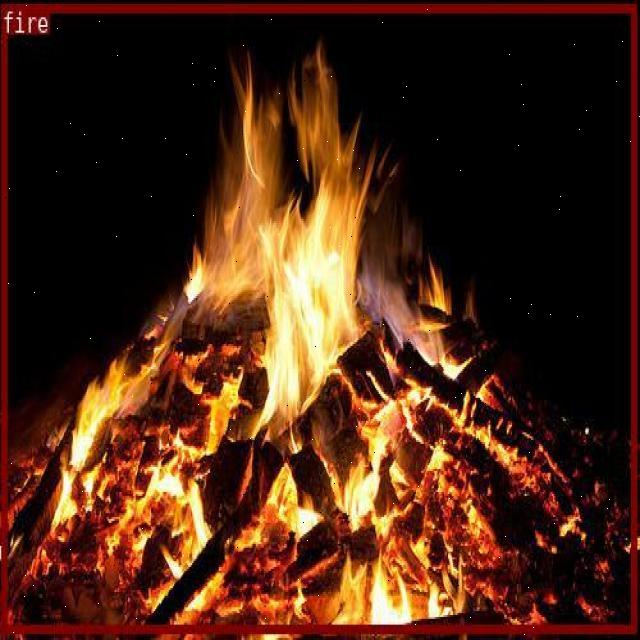fire: (1, 3, 636, 631)
